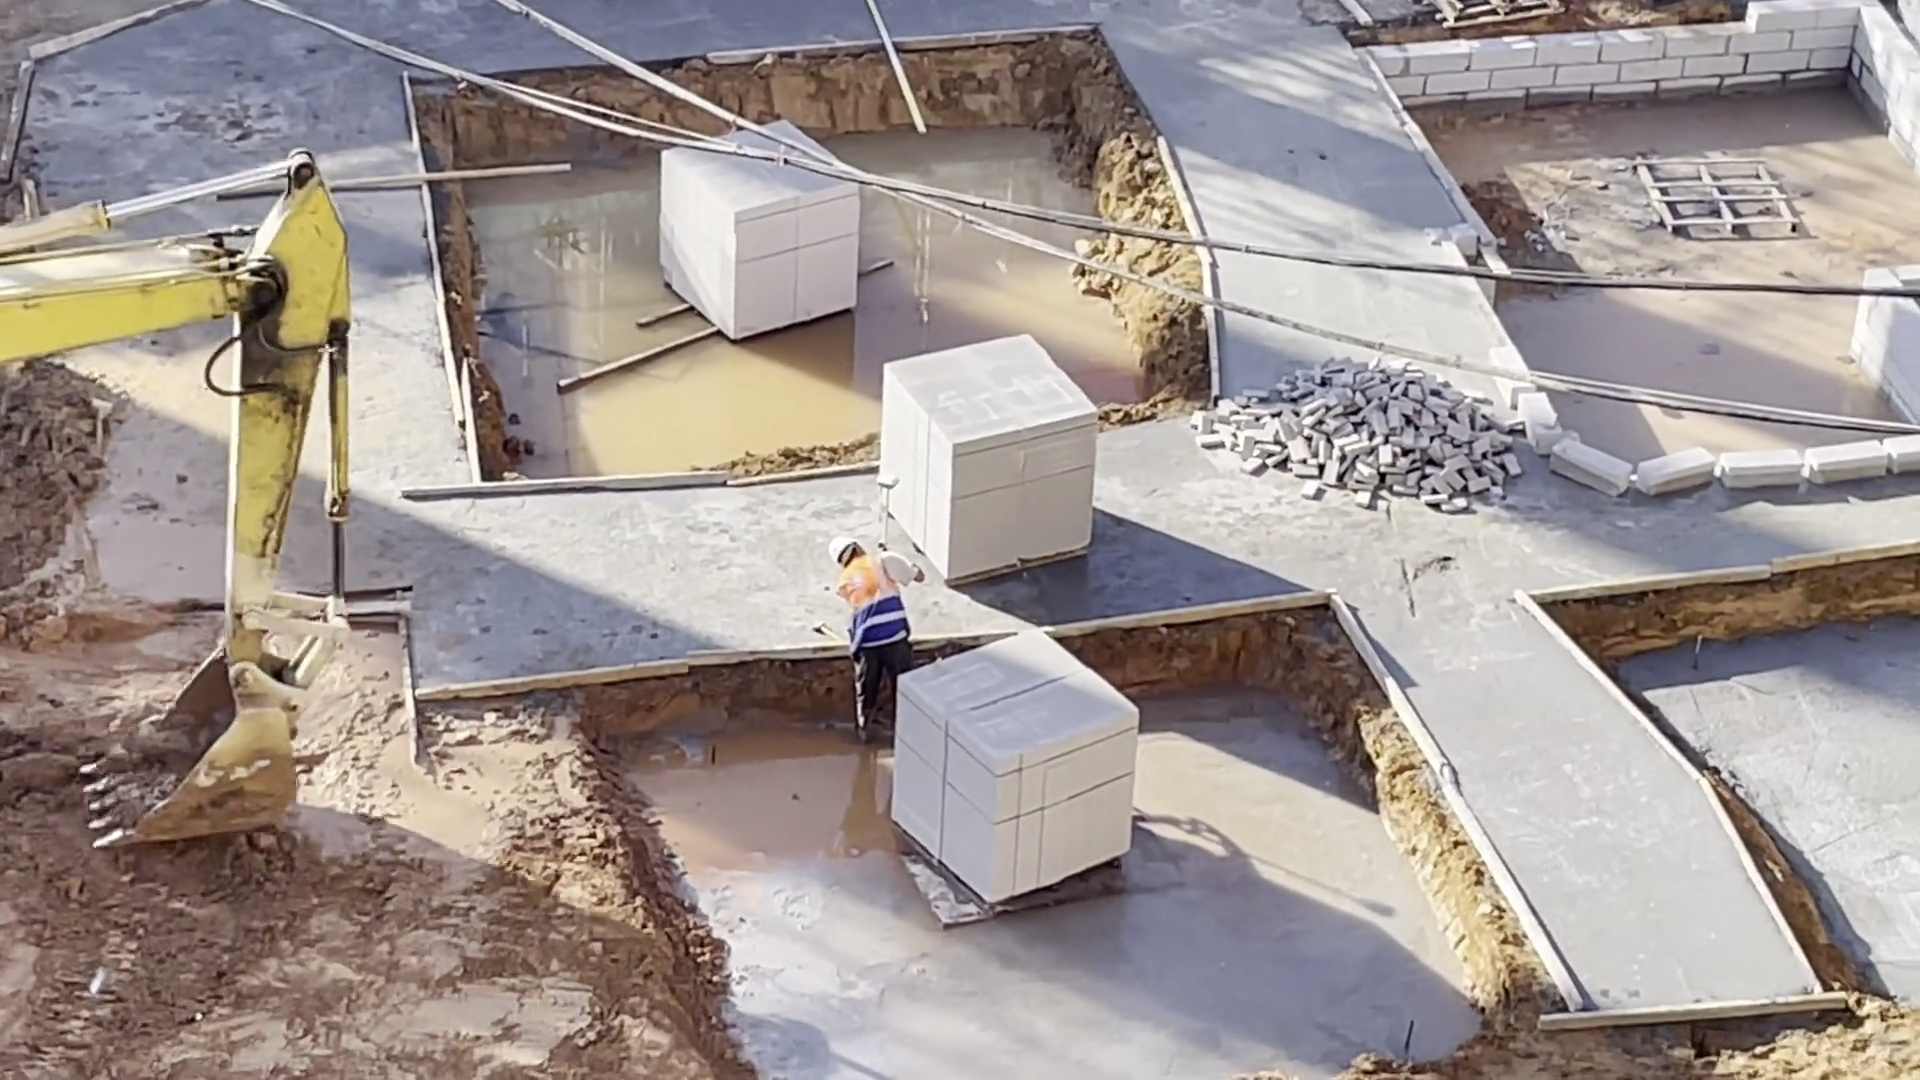brick: (887, 625, 1141, 915), (867, 327, 1112, 583), (1189, 349, 1528, 518), (644, 121, 865, 349)
helmet: (828, 537, 861, 569)
person: (826, 522, 915, 756)
vest: (843, 563, 912, 670)
